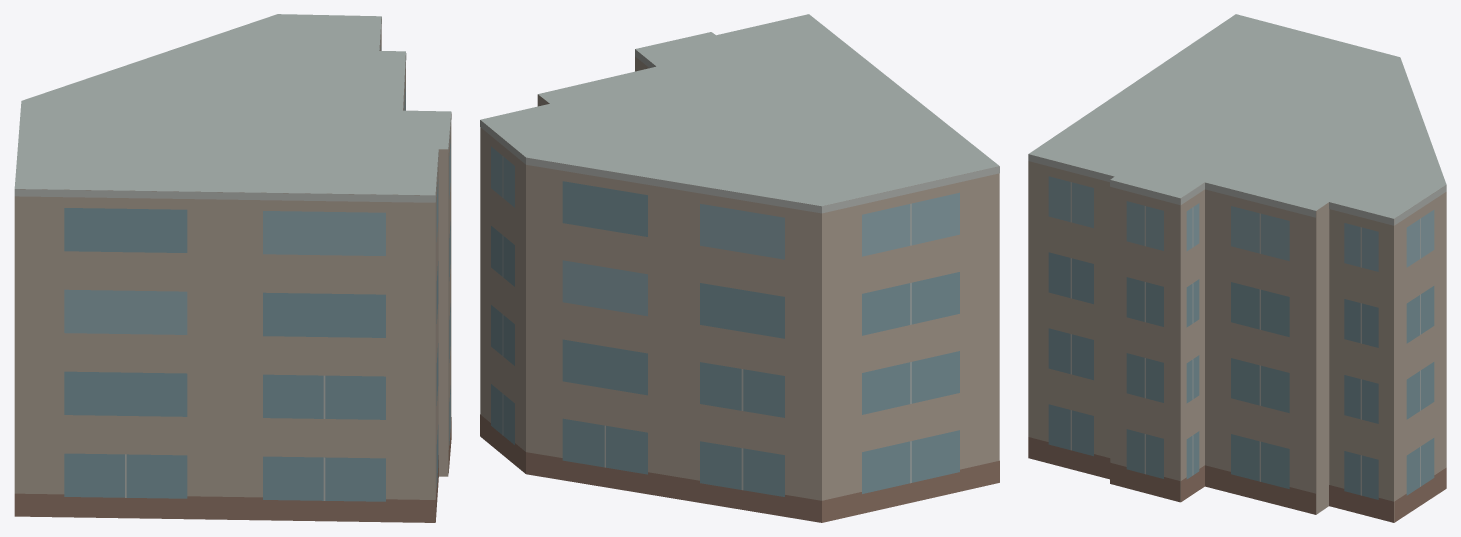
The model's file is survey-upis-32542568.glb.
3 renders of one model, left to right at view 1: azimuth 30°, elevation 25°; view 2: azimuth 150°, elevation 25°; view 3: azimuth 270°, elevation 25°, orthographic. The views are drawn at different scales.
Parts seen in each view (by area): view 1: survey-upis-32542568.tmp; view 2: survey-upis-32542568.tmp; view 3: survey-upis-32542568.tmp.
Part boxes in pixels (x1=…): survey-upis-32542568.tmp: x1=14, y1=14, x2=451, y2=522; survey-upis-32542568.tmp: x1=480, y1=14, x2=999, y2=522; survey-upis-32542568.tmp: x1=1028, y1=14, x2=1446, y2=522.
Size of the model in its own units: 15.47 by 10.7 by 13.35.
